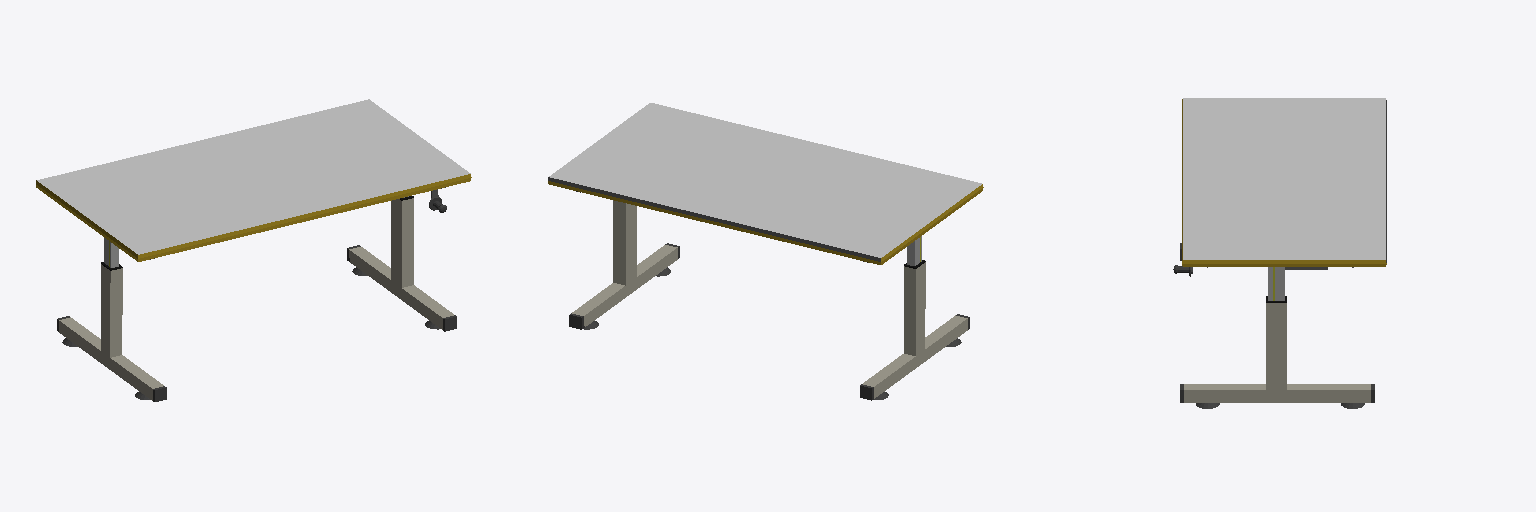
The model's file is desk.obj.
The picture shows the model from 3 angles: view 1: azimuth 30°, elevation 25°; view 2: azimuth 150°, elevation 25°; view 3: azimuth 270°, elevation 25°; orthographic projection.
Visible parts, largest first — view 1: Bordd1.001_Plane; view 2: Bordd1.001_Plane; view 3: Bordd1.001_Plane.
Boxes of the visible parts, box(x1,y1,x2,y2) form: Bordd1.001_Plane: box(36, 99, 471, 401); Bordd1.001_Plane: box(548, 103, 983, 400); Bordd1.001_Plane: box(1173, 98, 1386, 408).
Bounding box in the file's own units: 2989 × 1324 × 1655.